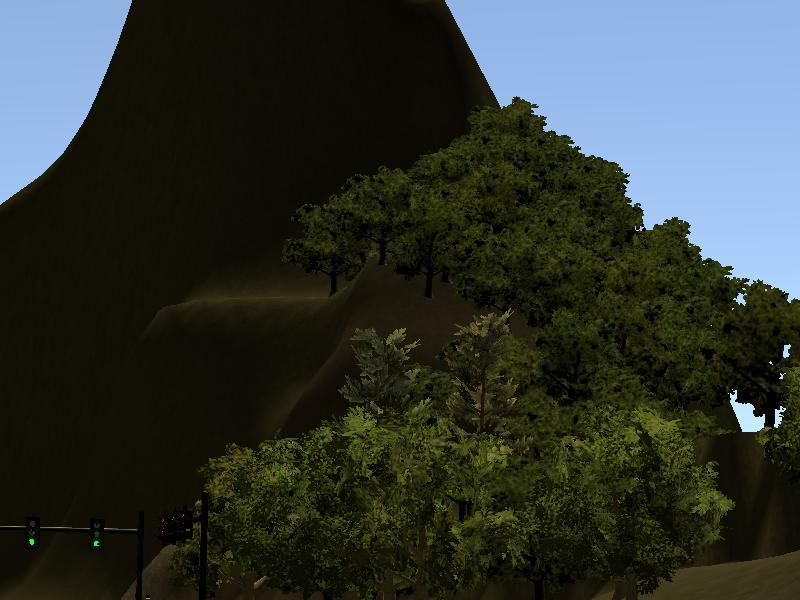Green: (87, 516, 103, 553), (24, 515, 39, 554)
